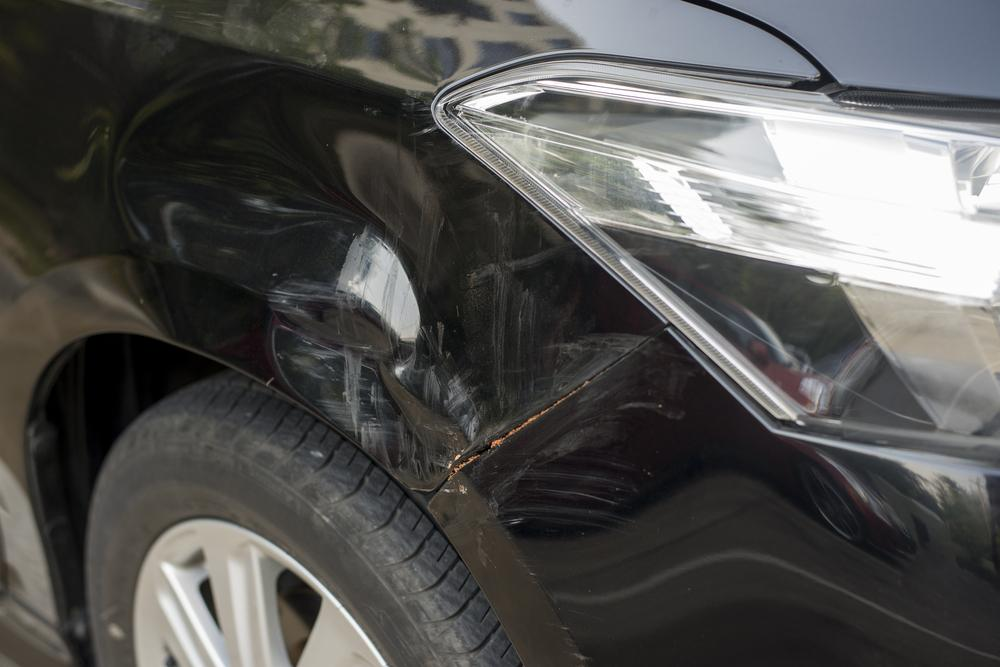dent: (129, 121, 467, 489)
scratch: (456, 337, 683, 667), (436, 241, 662, 464)
